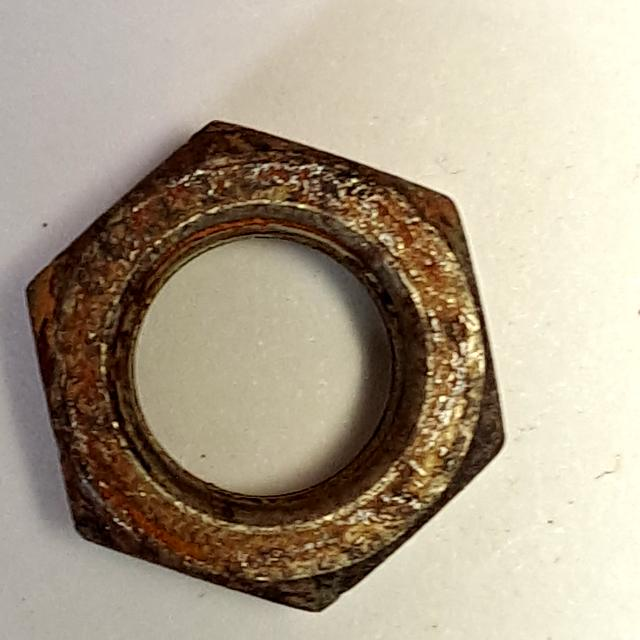Rust: (19, 96, 517, 628)
